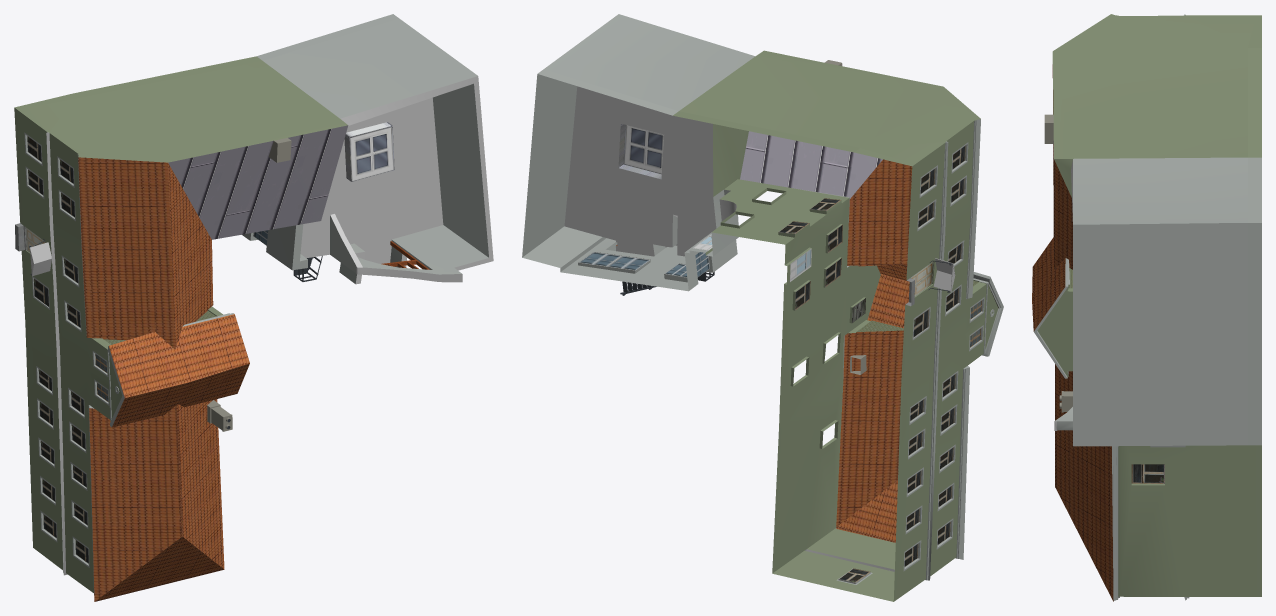
File: Aia_22.obj
3 renders of one model, left to right at view 1: azimuth 30°, elevation 25°; view 2: azimuth 150°, elevation 25°; view 3: azimuth 270°, elevation 25°, orthographic. The views are drawn at different scales.
Parts seen in each view (by area): view 1: Aia22; view 2: Aia22; view 3: Aia22.
Boxes of the visible parts, x1,y1,x2,y2 form: Aia22: (14,14,493,601); Aia22: (522,14,1003,601); Aia22: (1032,14,1261,601).
Size of the model in its own units: 23.87 by 25.15 by 10.31.
